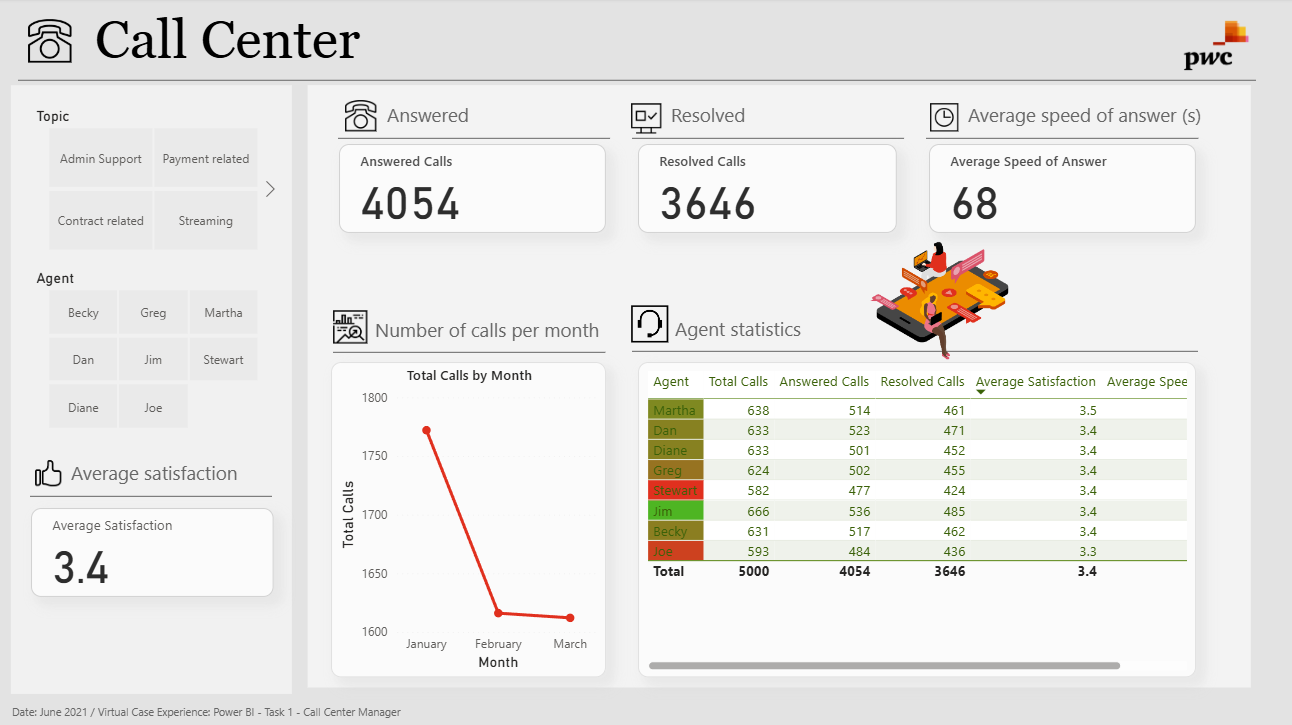

Layout of this report page (visuals, bound fields, positions):
{"tool":"powerbi","page":{"name":"Call Center Manager","canvas":[1280,720],"ordinal":0},"visuals":[{"type":"textbox","box":[89.7,4.8,1172,75.2],"z":0},{"type":"basicShape","box":[9,61,1244.3,40.1],"z":1000},{"type":"basicShape","box":[8.7,80.1,283.6,614.4],"z":2000},{"type":"basicShape","box":[296,80,952,608],"z":3000},{"type":"image","box":[1129,0,151,94.5],"z":4000},{"type":"image","box":[24.1,7.7,53.1,68.5],"z":5000},{"type":"image","box":[31.1,452.4,35.7,35.7],"z":6000},{"type":"textbox","box":[66.8,452.4,188.1,35.7],"z":7000},{"type":"basicShape","box":[21.2,472.5,259.1,40.2],"z":8000},{"type":"textbox","box":[378.6,98.3,172,35.7],"z":9000},{"type":"textbox","box":[660.1,98.3,183.2,35.7],"z":10000},{"type":"basicShape","box":[906.9,118.4,289.3,40.2],"z":11000},{"type":"textbox","box":[953.9,98.3,250.2,35.7],"z":12000},{"type":"basicShape","box":[325,118.4,289,40.2],"z":13000},{"type":"basicShape","box":[616,118.4,289,40.2],"z":14000},{"type":"image","box":[915.9,88.2,38,59.2],"z":15000},{"type":"image","box":[337.3,94.9,41.3,43.6],"z":16000},{"type":"image","box":[619.9,88.2,40.2,61.4],"z":17000},{"type":"textbox","box":[367.4,310.5,250.2,35.7],"z":18000},{"type":"basicShape","box":[320.5,330.6,289.3,40.2],"z":19000},{"type":"textbox","box":[663.4,309.3,250.2,35.7],"z":20000},{"type":"basicShape","box":[616.5,329.5,579.7,40.2],"z":21000},{"type":"image","box":[619.9,294.9,46.9,55.8],"z":22000},{"type":"image","box":[325,290.4,43.6,69.2],"z":23000},{"type":"image","box":[800.6,197.7,278.8,187.1],"z":24000},{"type":"textbox","box":[7.7,691.6,403.2,28],"z":25000},{"type":"cardVisual","fields":{"Data":["Call Center.Answered Calls"]},"box":[336,144,264,88],"z":26000},{"type":"cardVisual","fields":{"Data":["Call Center.Resolved Calls"]},"box":[632,144,256,88],"z":27000},{"type":"cardVisual","fields":{"Data":["Call Center.Avrage Speed of Answer"]},"box":[920,144,264,88],"z":28000},{"type":"cardVisual","fields":{"Data":["Call Center.Average Satisfaction"]},"box":[32,504,240,88],"z":29000},{"type":"lineChart","fields":{"Category":["Call Center.Date.Variation.Date Hierarchy.Month"],"Y":["Call Center.Total Calls"]},"box":[328,360,272,312],"z":30000},{"type":"tableEx","fields":{"Values":["Call Center.Agent","Call Center.Total Calls","Call Center.Answered Calls","Call Center.Resolved Calls","Call Center.Average Satisfaction","Call Center.Average Speed of Answer"]},"box":[632,360,552,312],"z":31000},{"type":"slicer","fields":{"Values":["Call Center.Topic"]},"box":[24,104,256,152],"z":32000},{"type":"slicer","fields":{"Values":["Call Center.Agent"]},"box":[24,264,256,168],"z":33000}]}

Visuals, with their boxes in screenshot pixels (x1, y1, x2, y2), scaled from the page's 1280x720 canvas onto the 1292x725 screenshot:
textbox: <region>91, 5, 1274, 81</region>
basicShape: <region>9, 61, 1265, 102</region>
basicShape: <region>9, 81, 295, 699</region>
basicShape: <region>299, 81, 1260, 693</region>
image: <region>1140, 0, 1291, 95</region>
image: <region>24, 8, 78, 77</region>
image: <region>31, 456, 67, 491</region>
textbox: <region>67, 456, 257, 491</region>
basicShape: <region>21, 476, 283, 516</region>
textbox: <region>382, 99, 556, 135</region>
textbox: <region>666, 99, 851, 135</region>
basicShape: <region>915, 119, 1207, 160</region>
textbox: <region>963, 99, 1215, 135</region>
basicShape: <region>328, 119, 620, 160</region>
basicShape: <region>622, 119, 913, 160</region>
image: <region>924, 89, 963, 148</region>
image: <region>340, 96, 382, 139</region>
image: <region>626, 89, 666, 151</region>
textbox: <region>371, 313, 623, 349</region>
basicShape: <region>324, 333, 616, 373</region>
textbox: <region>670, 311, 922, 347</region>
basicShape: <region>622, 332, 1207, 372</region>
image: <region>626, 297, 673, 353</region>
image: <region>328, 292, 372, 362</region>
image: <region>808, 199, 1090, 387</region>
textbox: <region>8, 696, 415, 724</region>
cardVisual - Call Center.Answered Calls: <region>339, 145, 606, 234</region>
cardVisual - Call Center.Resolved Calls: <region>638, 145, 896, 234</region>
cardVisual - Call Center.Avrage Speed of Answer: <region>929, 145, 1195, 234</region>
cardVisual - Call Center.Average Satisfaction: <region>32, 508, 275, 596</region>
lineChart - Call Center.Date.Variation.Date Hierarchy.Month x Call Center.Total Calls: <region>331, 362, 606, 677</region>
tableEx - Call Center.Agent x Call Center.Total Calls: <region>638, 362, 1195, 677</region>
slicer - Call Center.Topic: <region>24, 105, 283, 258</region>
slicer - Call Center.Agent: <region>24, 266, 283, 435</region>
